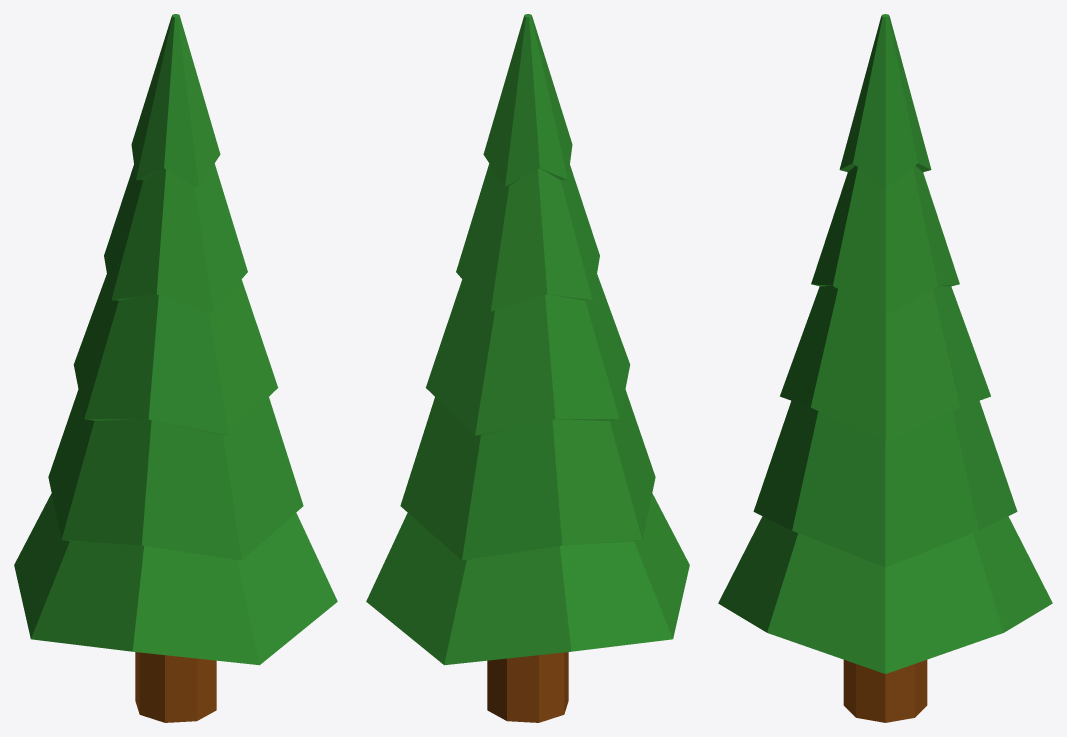
Rendered from Arbol 1.fbx.
3 views of the same model, side by side, from view 1: azimuth 30°, elevation 25°; view 2: azimuth 150°, elevation 25°; view 3: azimuth 270°, elevation 25° (orthographic).
Parts seen in each view (by area): view 1: Pino.021; view 2: Pino.021; view 3: Pino.021.
Boxes of the visible parts, x1,y1,x2,y2 form: Pino.021: (14,14,337,722); Pino.021: (366,14,689,722); Pino.021: (718,14,1052,722).
Size of the model in its own units: 43.16 by 98.05 by 43.16.
